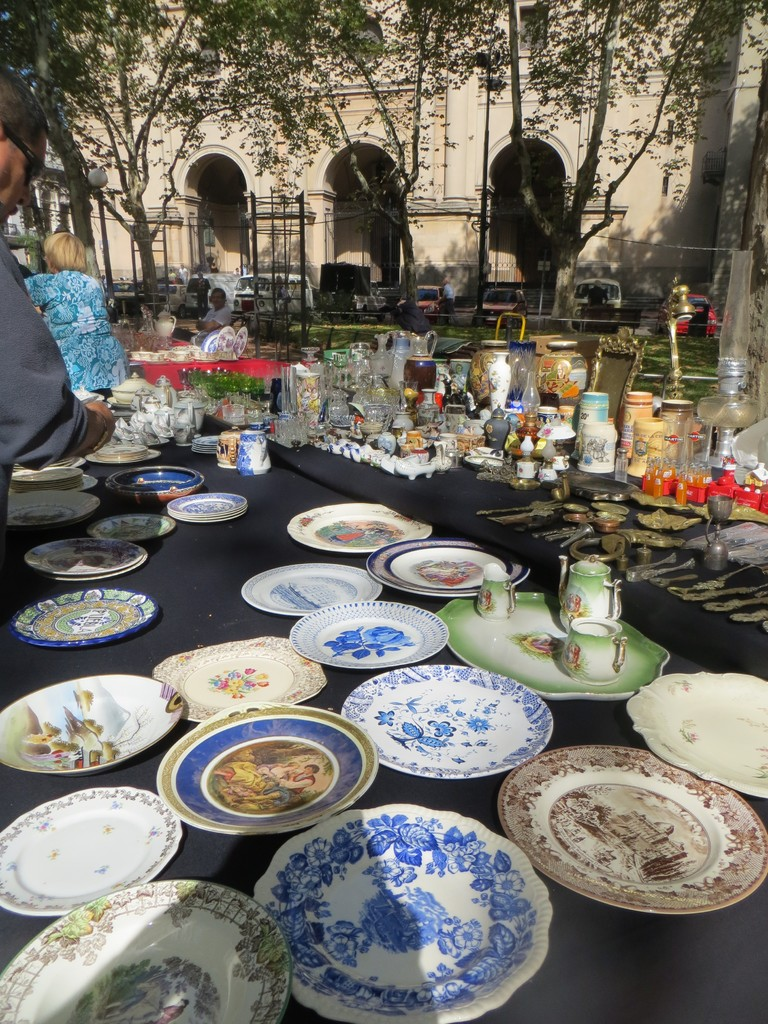plate: (0, 894, 270, 1023), (374, 529, 540, 604), (286, 485, 426, 566), (10, 585, 150, 651), (22, 524, 148, 595), (8, 485, 96, 547), (103, 459, 204, 506), (103, 501, 188, 550), (158, 485, 251, 524), (83, 430, 161, 472), (231, 326, 245, 356)
